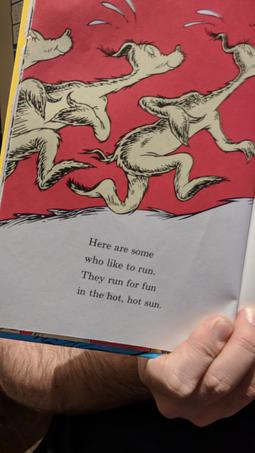text block: (64, 234, 177, 312)
